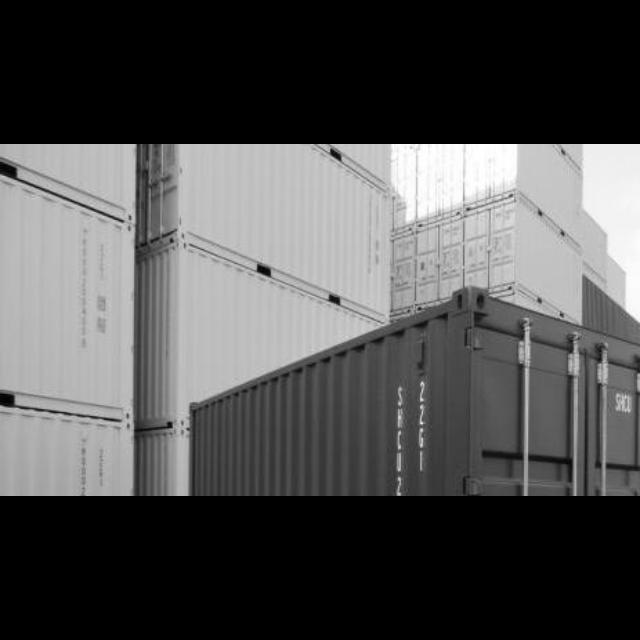1: (414, 450, 428, 474)
2: (414, 403, 430, 431), (417, 378, 428, 404), (392, 476, 406, 496)
c: (394, 431, 406, 452)
g: (412, 426, 431, 452)
h: (392, 406, 408, 432)
s: (392, 382, 408, 408)
u: (393, 450, 405, 476)
